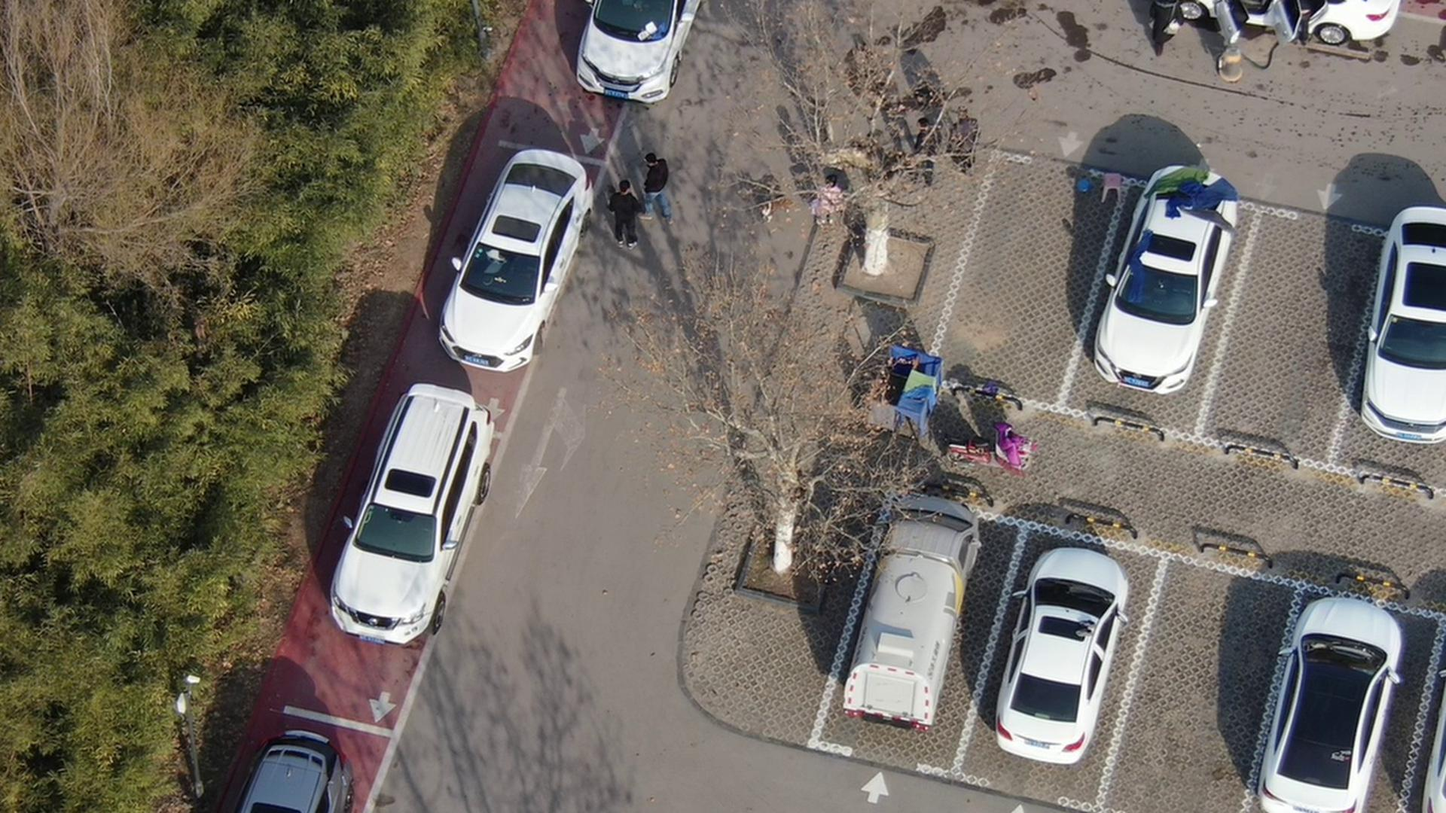human: (609, 175, 651, 248), (955, 99, 990, 184), (914, 111, 952, 185), (649, 145, 685, 222), (1152, 1, 1194, 55), (813, 167, 847, 231), (1283, 1, 1317, 50)
